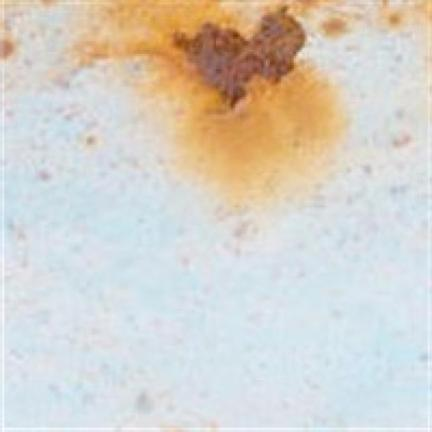karat: (71, 0, 307, 112)
